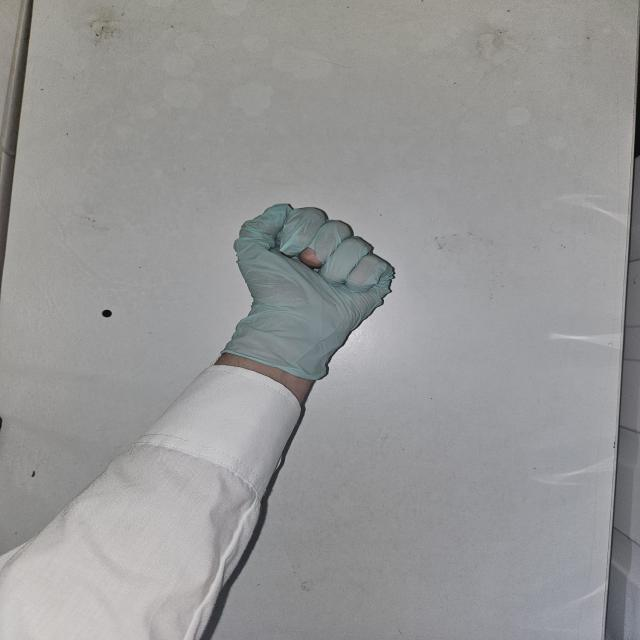gloves_damaged: (220, 202, 400, 384)
